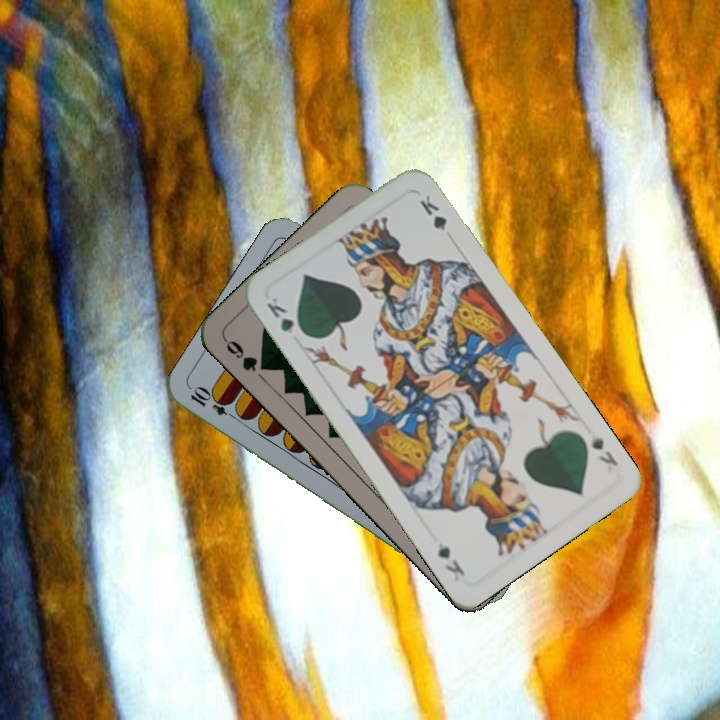E10: (186, 384, 242, 423)
G9: (220, 334, 273, 375)
GK: (262, 293, 309, 339), (587, 432, 621, 469)
